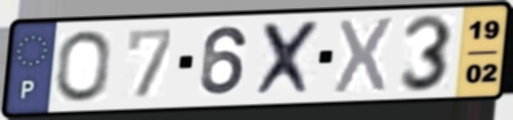3: (398, 12, 457, 95)
6: (197, 24, 249, 99)
7: (125, 25, 176, 101)
O: (54, 28, 113, 105)
X: (252, 18, 326, 99), (330, 14, 397, 96)
